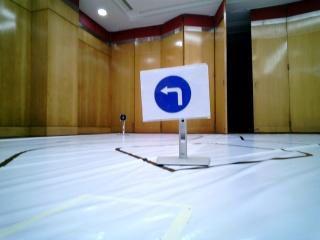left: (139, 71, 211, 119)
